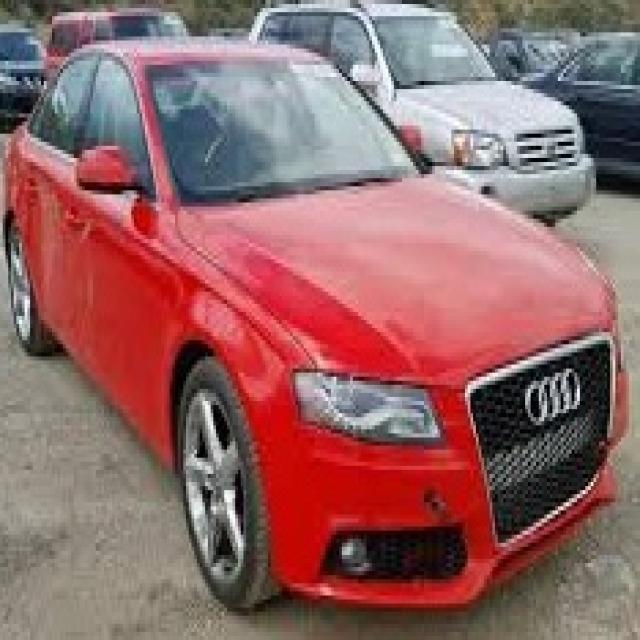red: (9, 35, 640, 614)
